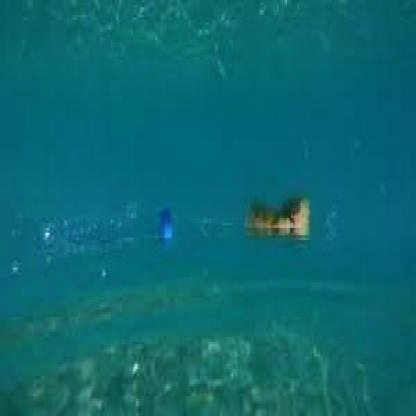pbottle: (33, 196, 175, 262)
